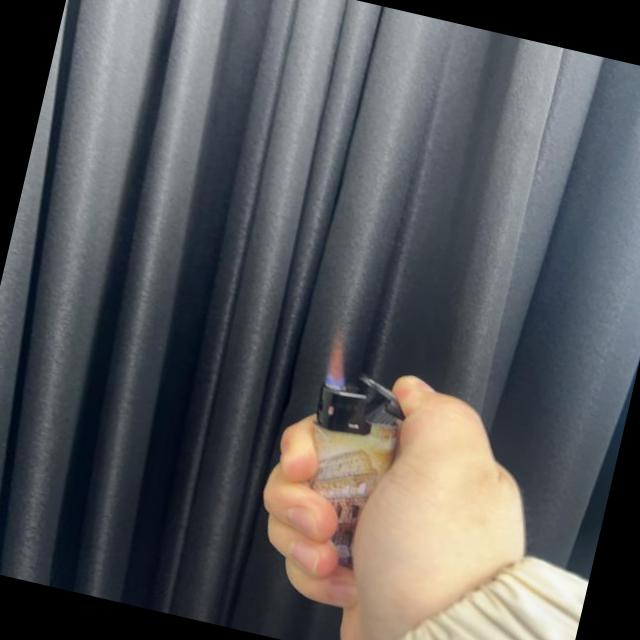Fire: (322, 330, 356, 390)
